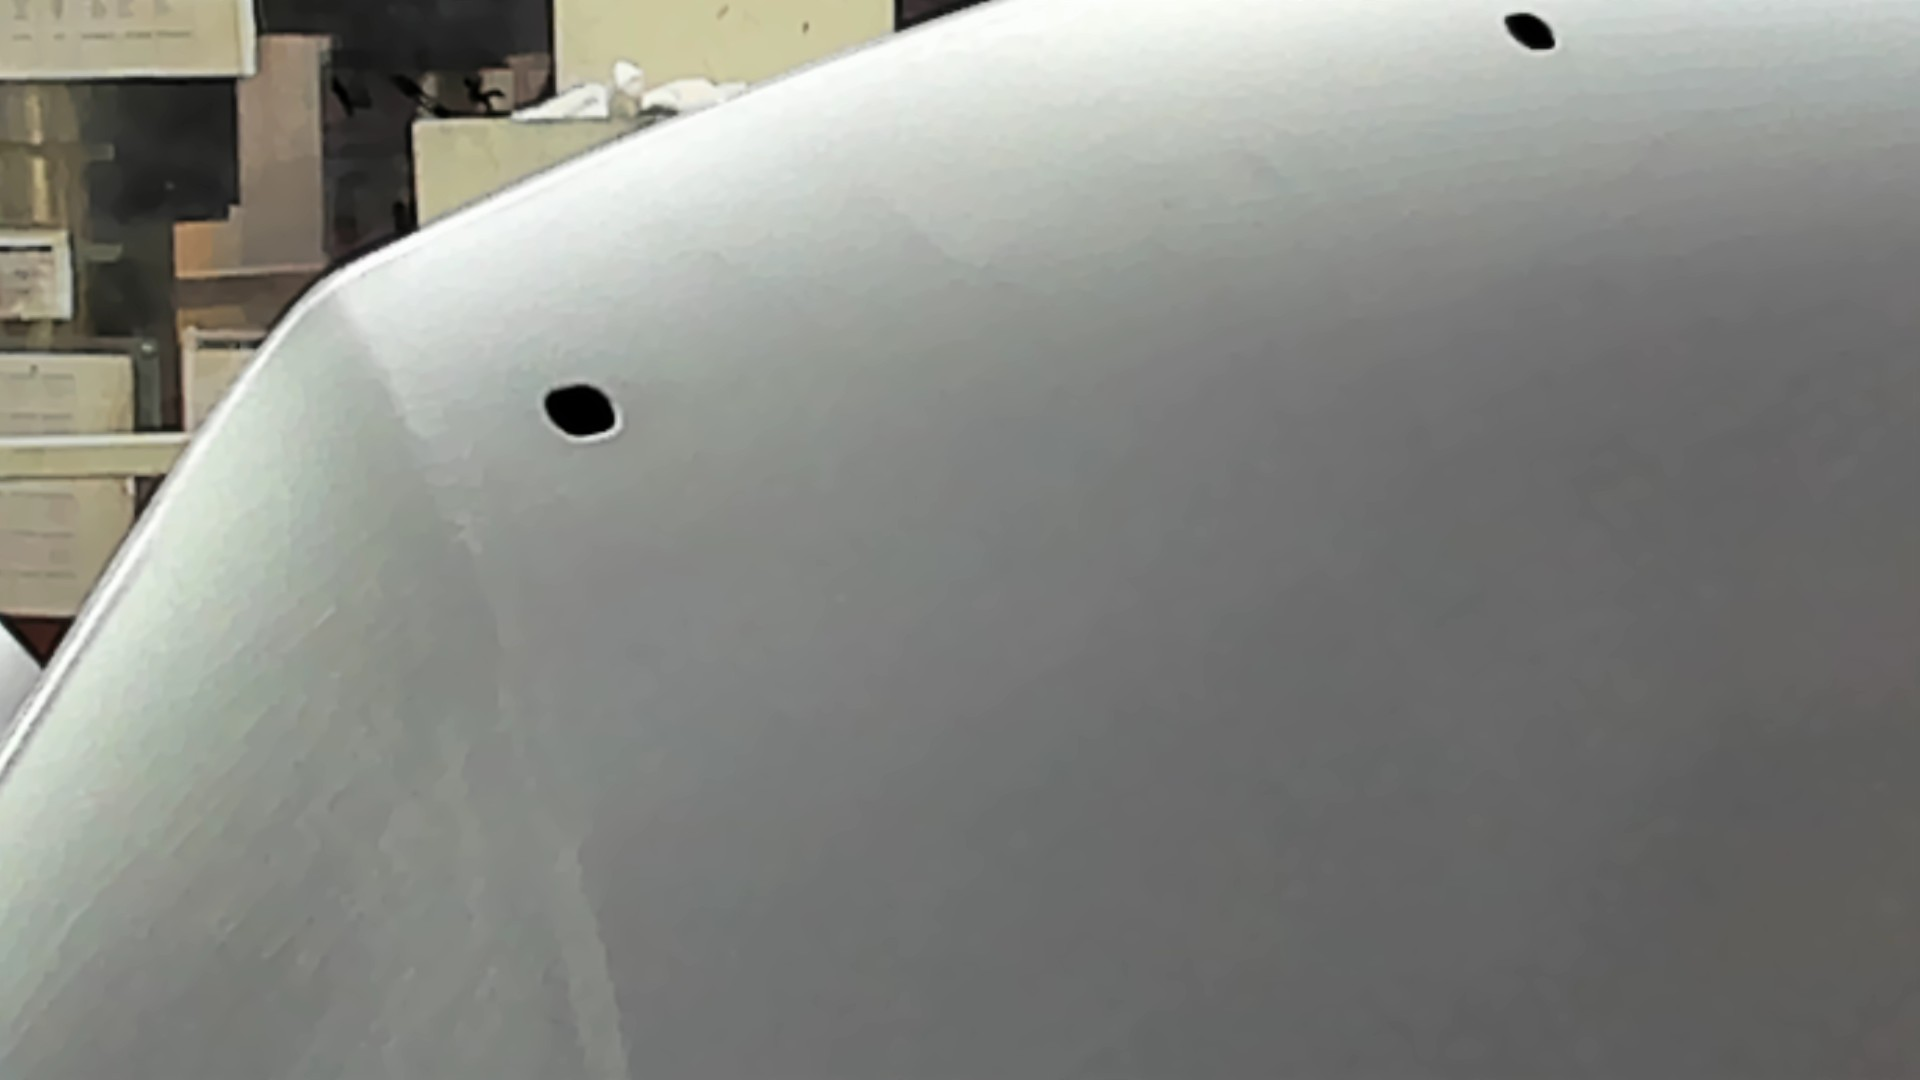amorfo: (538, 377, 622, 444), (1501, 9, 1557, 59)
